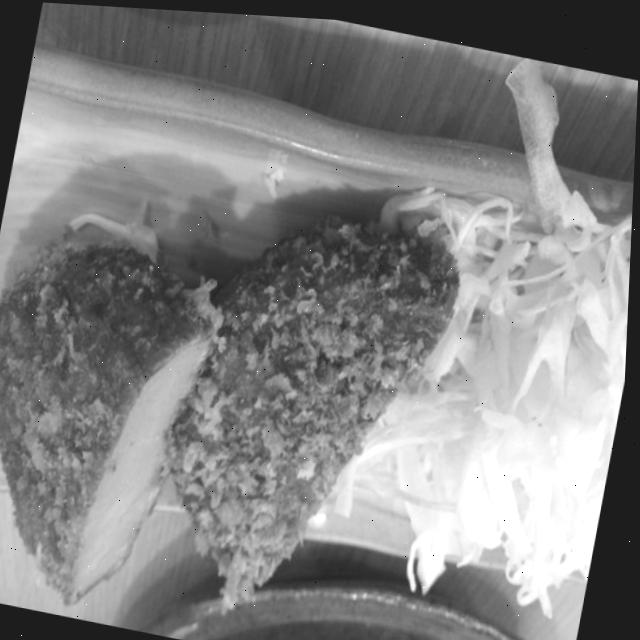炸货点心: (0, 80, 504, 640)
